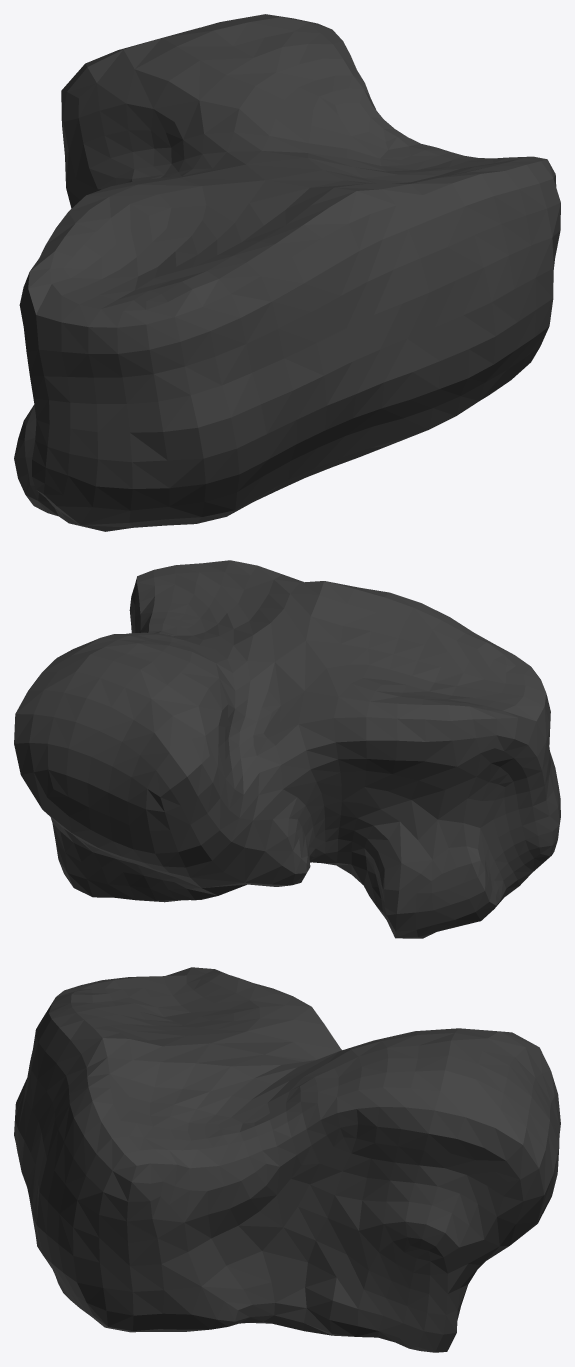
The model's file is Third_carpal.glb.
3 views of the same model, one above another, from view 1: azimuth 30°, elevation 25°; view 2: azimuth 150°, elevation 25°; view 3: azimuth 270°, elevation 25° (orthographic). The views are drawn at different scales.
Visible parts, largest first — view 1: Third_carpal; view 2: Third_carpal; view 3: Third_carpal.
Part boxes in pixels (x1,y1,x2,y2): Third_carpal: (14, 14, 560, 531); Third_carpal: (14, 560, 560, 938); Third_carpal: (14, 967, 560, 1352).
Bounding box in the file's own units: 48.47 × 31.22 × 46.82.
Materials: 1 (1 with a texture image).
